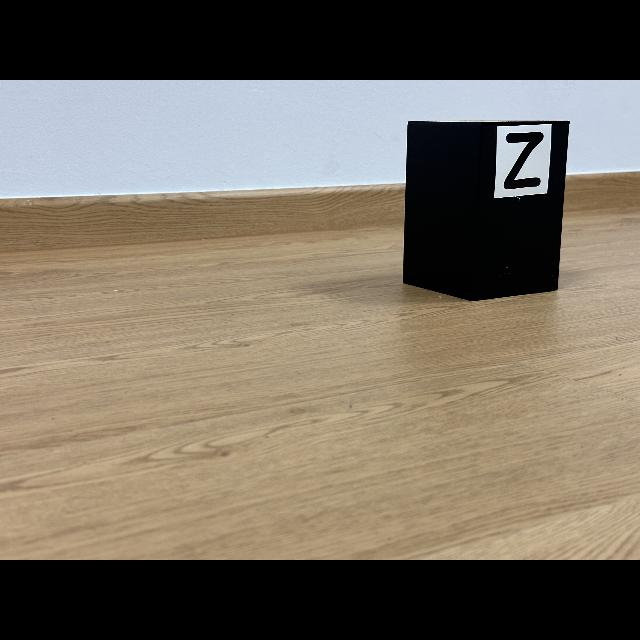Z: (504, 132, 544, 190)
